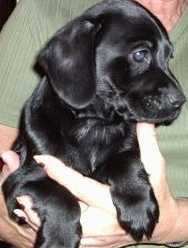Dog: (7, 0, 185, 231)
